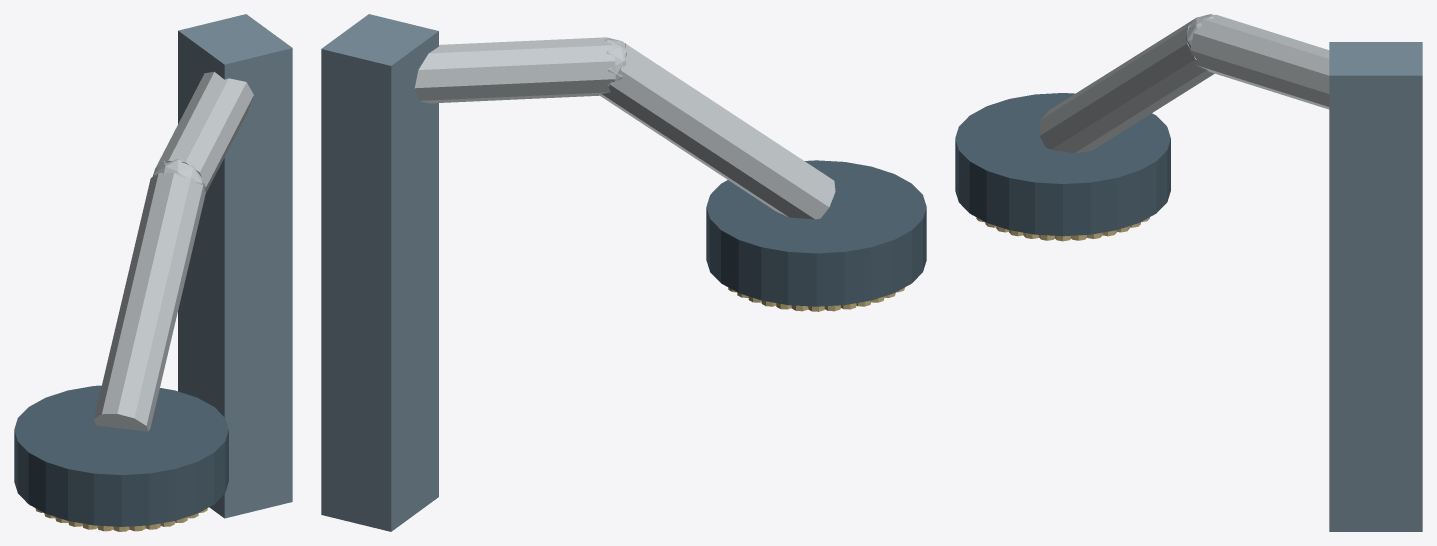
Rendered from 20_L77_BulkPadConditioningAssembly.glb.
3 views of the same model, side by side, from view 1: azimuth 30°, elevation 25°; view 2: azimuth 150°, elevation 25°; view 3: azimuth 270°, elevation 25° (orthographic). The views are drawn at different scales.
Parts seen in each view (by area): view 1: BulkPadConditioningAssembly_Node_0000, BulkPadConditioningAssembly_Node_0004, BulkPadConditioningAssembly_Node_0002, BulkPadConditioningAssembly_Node_0001, BulkPadConditioningAssembly_Node_0003; view 2: BulkPadConditioningAssembly_Node_0000, BulkPadConditioningAssembly_Node_0004, BulkPadConditioningAssembly_Node_0002, BulkPadConditioningAssembly_Node_0001; view 3: BulkPadConditioningAssembly_Node_0000, BulkPadConditioningAssembly_Node_0004, BulkPadConditioningAssembly_Node_0002, BulkPadConditioningAssembly_Node_0001.
Part boxes in pixels (<box>): BulkPadConditioningAssembly_Node_0000: <box>178,14,292,518</box>; BulkPadConditioningAssembly_Node_0004: <box>14,385,228,526</box>; BulkPadConditioningAssembly_Node_0002: <box>94,173,205,431</box>; BulkPadConditioningAssembly_Node_0001: <box>153,71,253,192</box>; BulkPadConditioningAssembly_Node_0003: <box>152,159,204,187</box>; BulkPadConditioningAssembly_Node_0000: <box>321,14,438,531</box>; BulkPadConditioningAssembly_Node_0004: <box>706,160,926,306</box>; BulkPadConditioningAssembly_Node_0002: <box>600,43,835,219</box>; BulkPadConditioningAssembly_Node_0001: <box>415,37,615,103</box>; BulkPadConditioningAssembly_Node_0000: <box>1329,42,1422,531</box>; BulkPadConditioningAssembly_Node_0004: <box>955,93,1170,236</box>; BulkPadConditioningAssembly_Node_0002: <box>1039,17,1214,153</box>; BulkPadConditioningAssembly_Node_0001: <box>1190,14,1329,109</box>.
Bounding box in the file's own units: 1.28 × 1.4 × 1.3.
